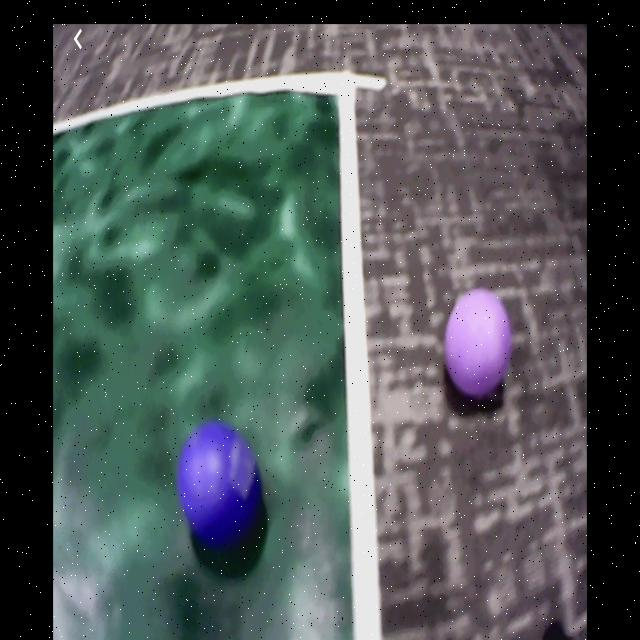ball: (178, 422, 265, 546), (446, 290, 512, 398)
